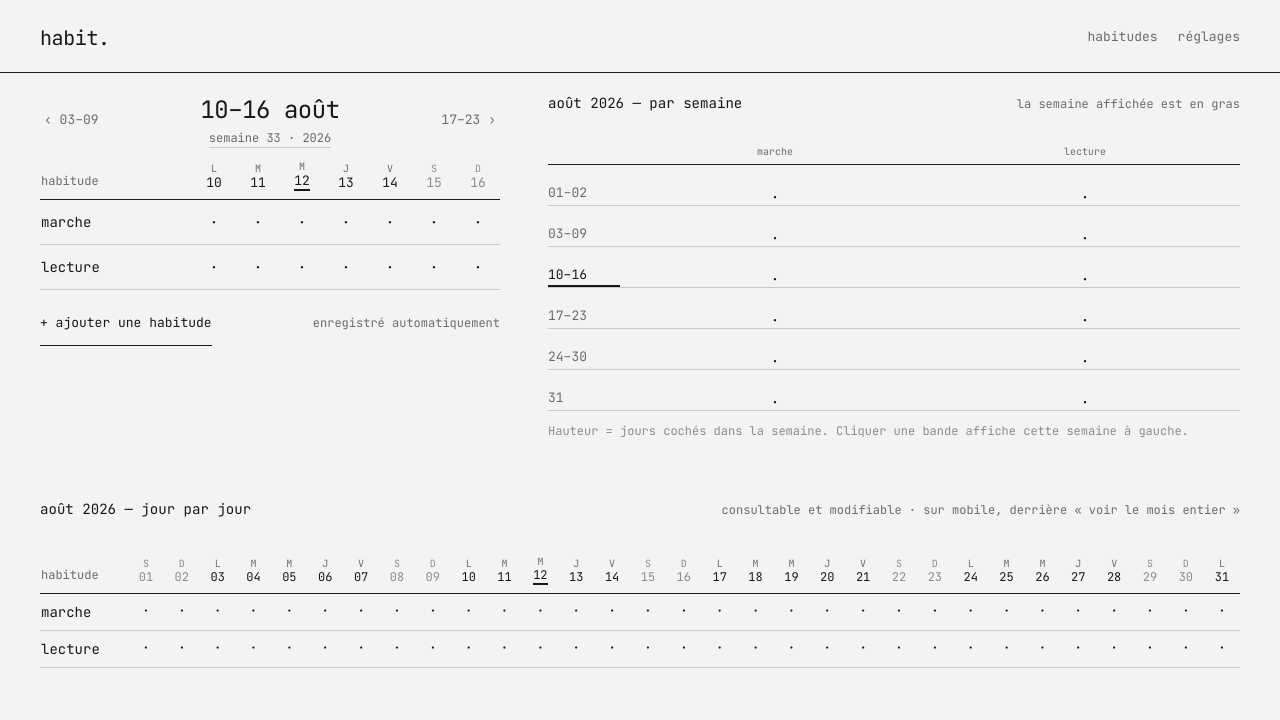
Test case: HabitApp › change de semaine et revient à celle en cours
Click the button named "semaine précédente".
click(71, 121)  # box top-left (40, 99), bottom-right (103, 143)
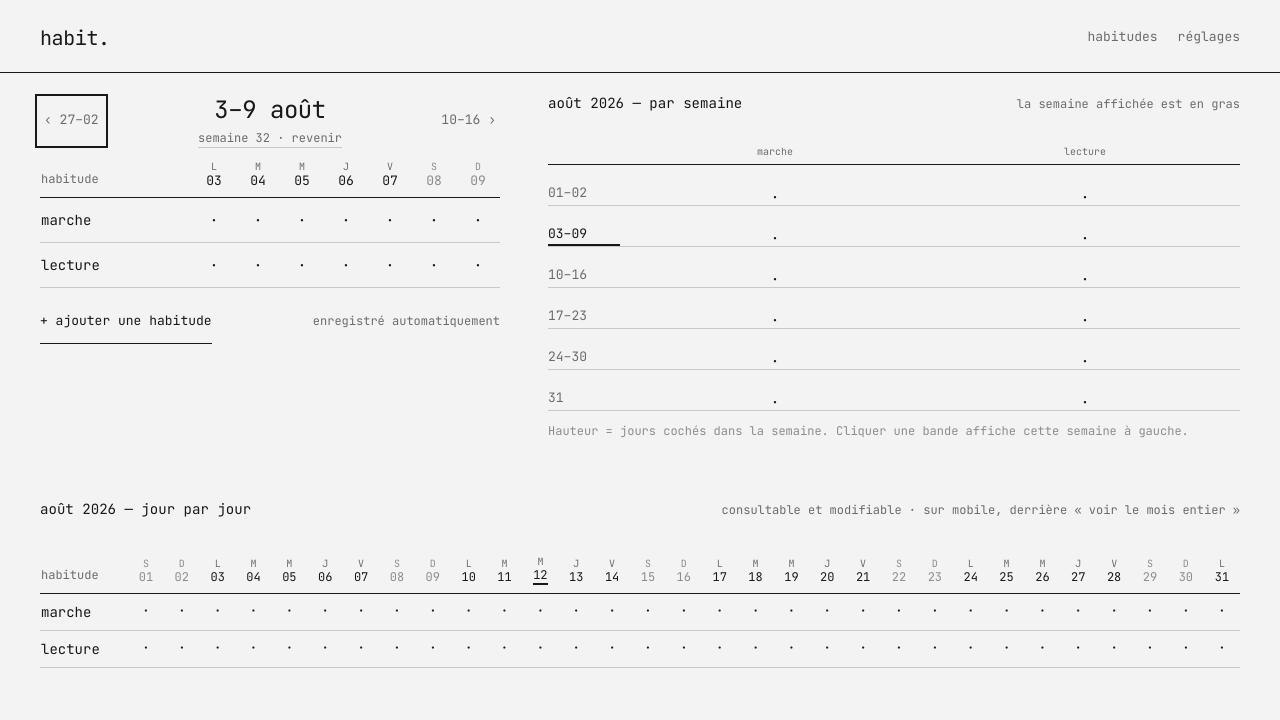
Expected: the text "semaine 32 · revenir" is shown, top-left (198, 130), bottom-right (342, 148)
# Le titre est le retour à la semaine courante.
Click the text "3–9 août".
click(270, 110)  # box top-left (214, 93), bottom-right (326, 128)
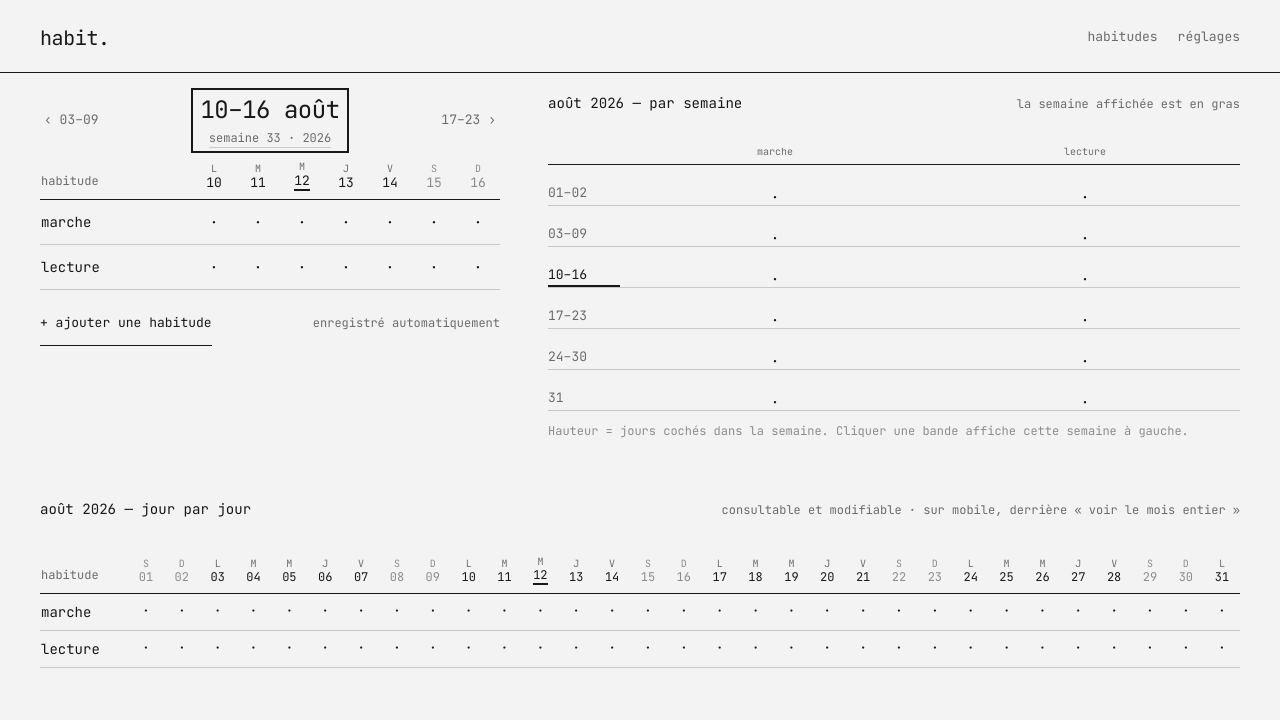
Expected: the text "semaine 33 · 2026" is shown, top-left (209, 130), bottom-right (331, 148)
